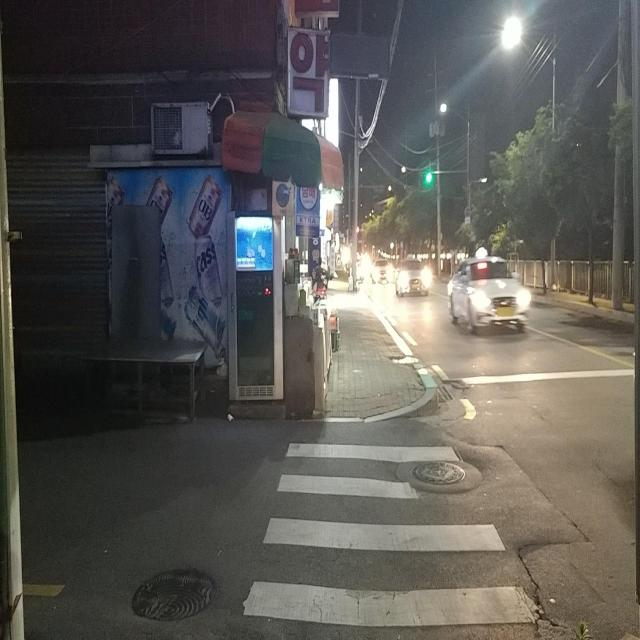횡단보도: (241, 440, 545, 630)
